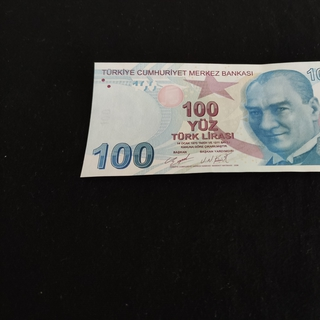100TLFront: (80, 61, 320, 178)
